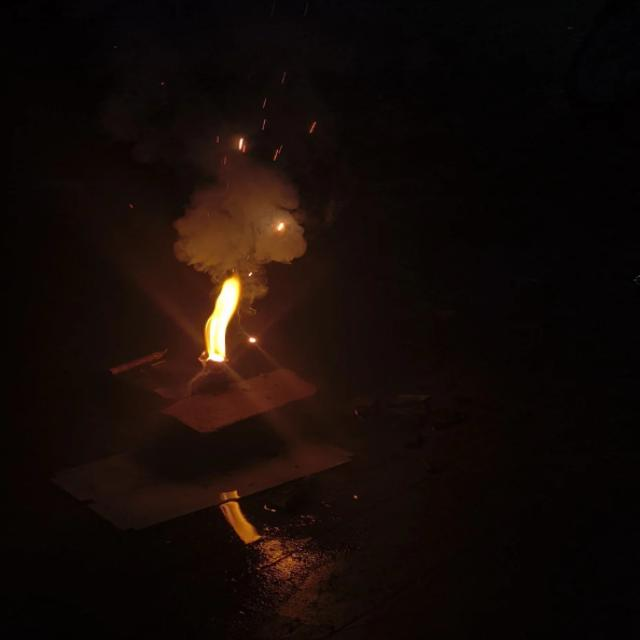fire: (204, 274, 241, 362)
